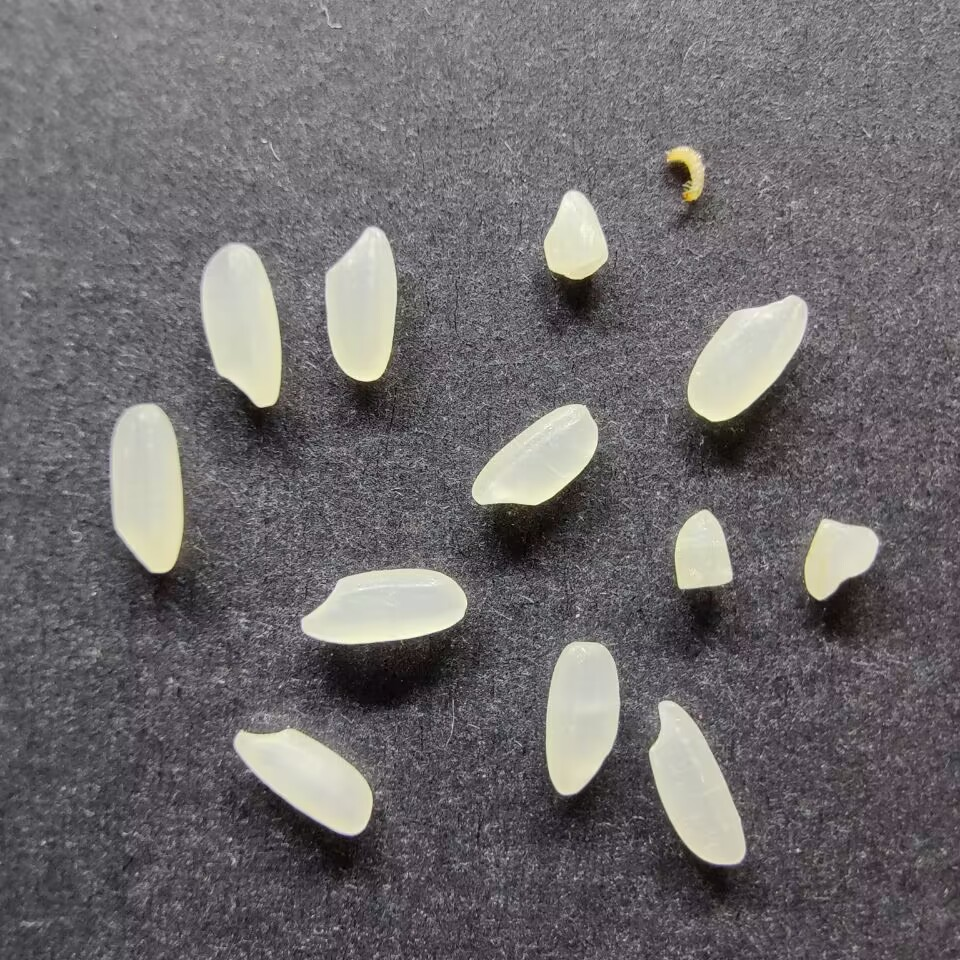broken: (803, 519, 880, 602), (542, 189, 608, 280), (673, 509, 733, 592)
others: (662, 144, 708, 205)
rice: (647, 699, 746, 866), (685, 293, 809, 421), (232, 725, 373, 837), (200, 242, 282, 409), (470, 403, 599, 506), (300, 567, 467, 644), (108, 402, 183, 572), (544, 640, 620, 796), (323, 226, 396, 382)
